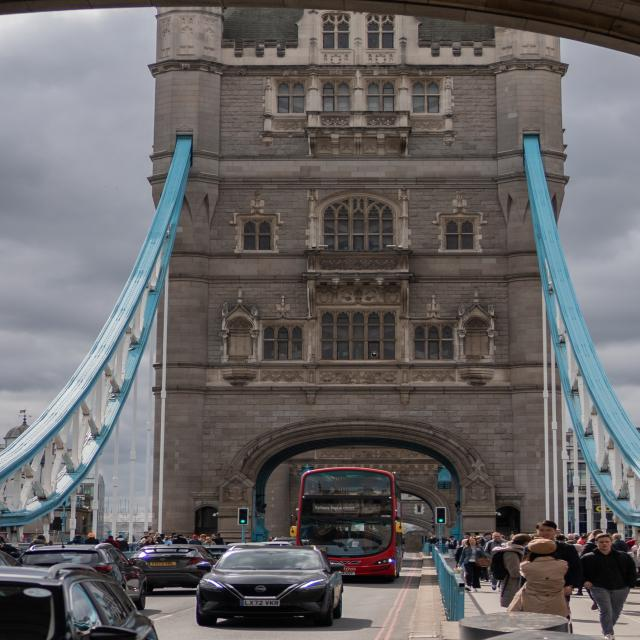bus: (296, 465, 405, 585)
car: (194, 544, 345, 630), (0, 563, 160, 640), (17, 543, 147, 610), (130, 544, 218, 592)
